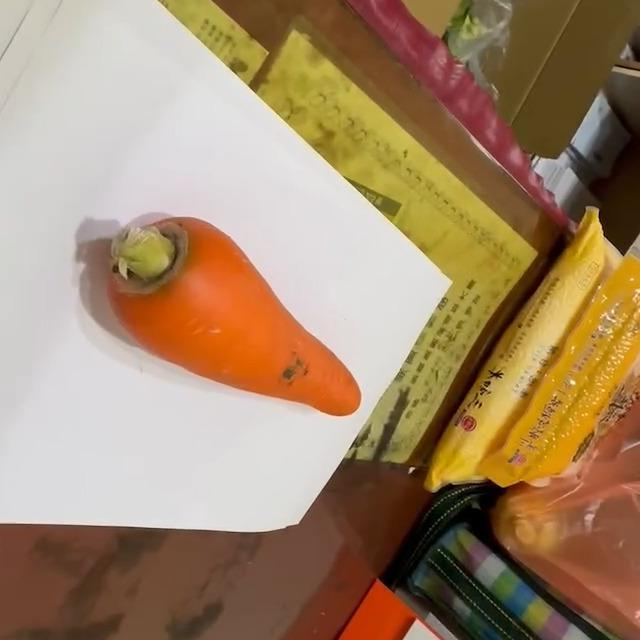carrot: (100, 214, 367, 417)
